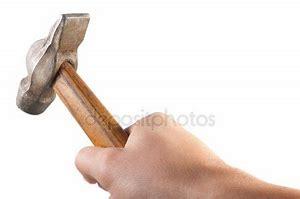hammer: (14, 10, 161, 198)
